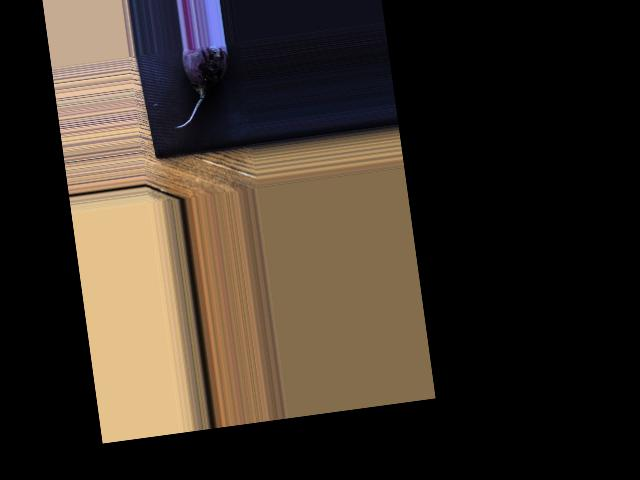beet: (165, 43, 237, 128)
